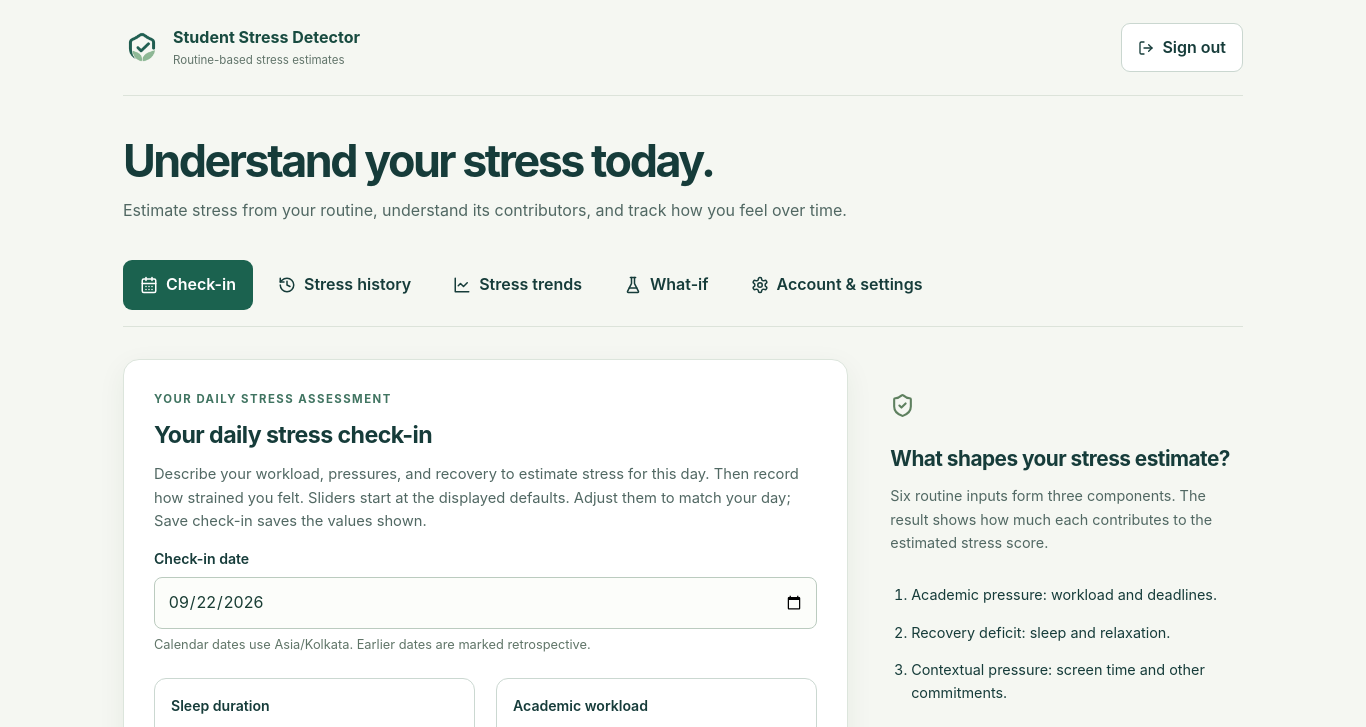
it: intentional observations › keeps the session visible when logout and verification both remain available but fail
The width and height of the screenshot is (1366, 727).
Click the button "Sign out".
click(1182, 48)  # box [1121,22,1243,72]
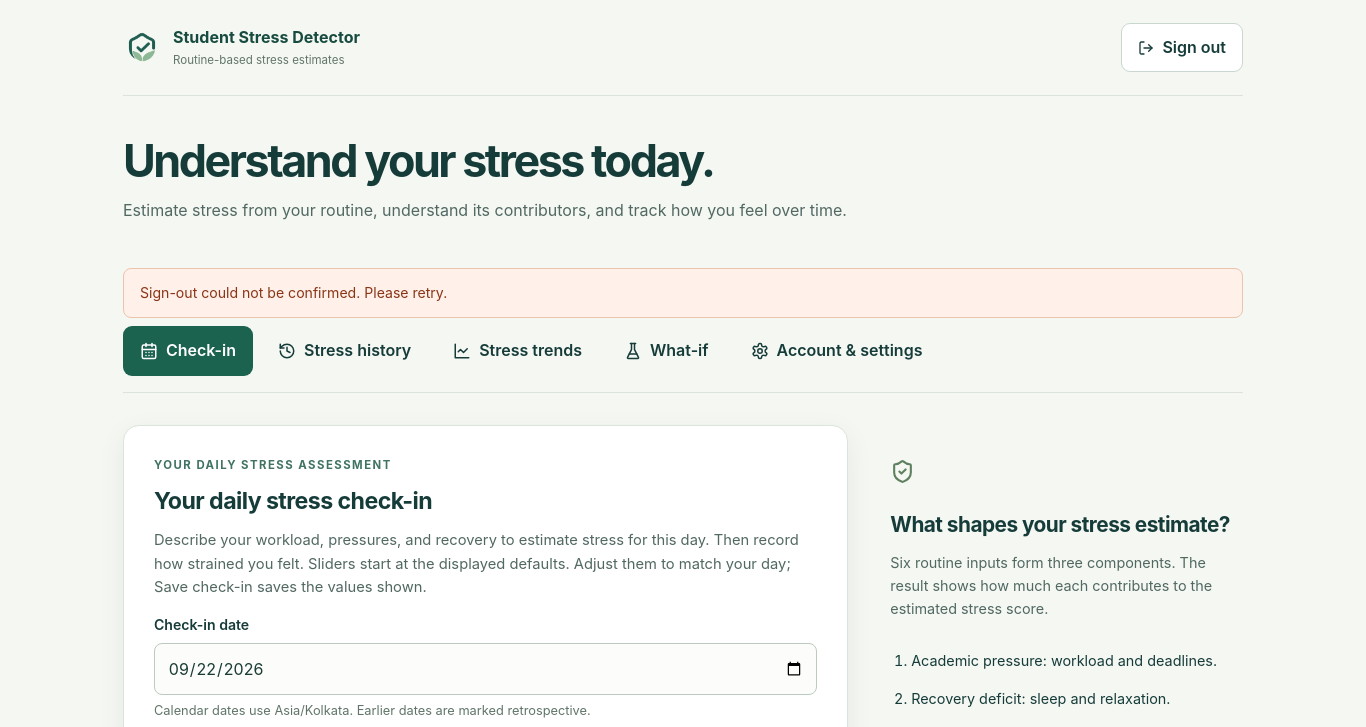
Now the message reads "Sign-out could not be confirmed. Please retry.", box [140,284,447,301]
